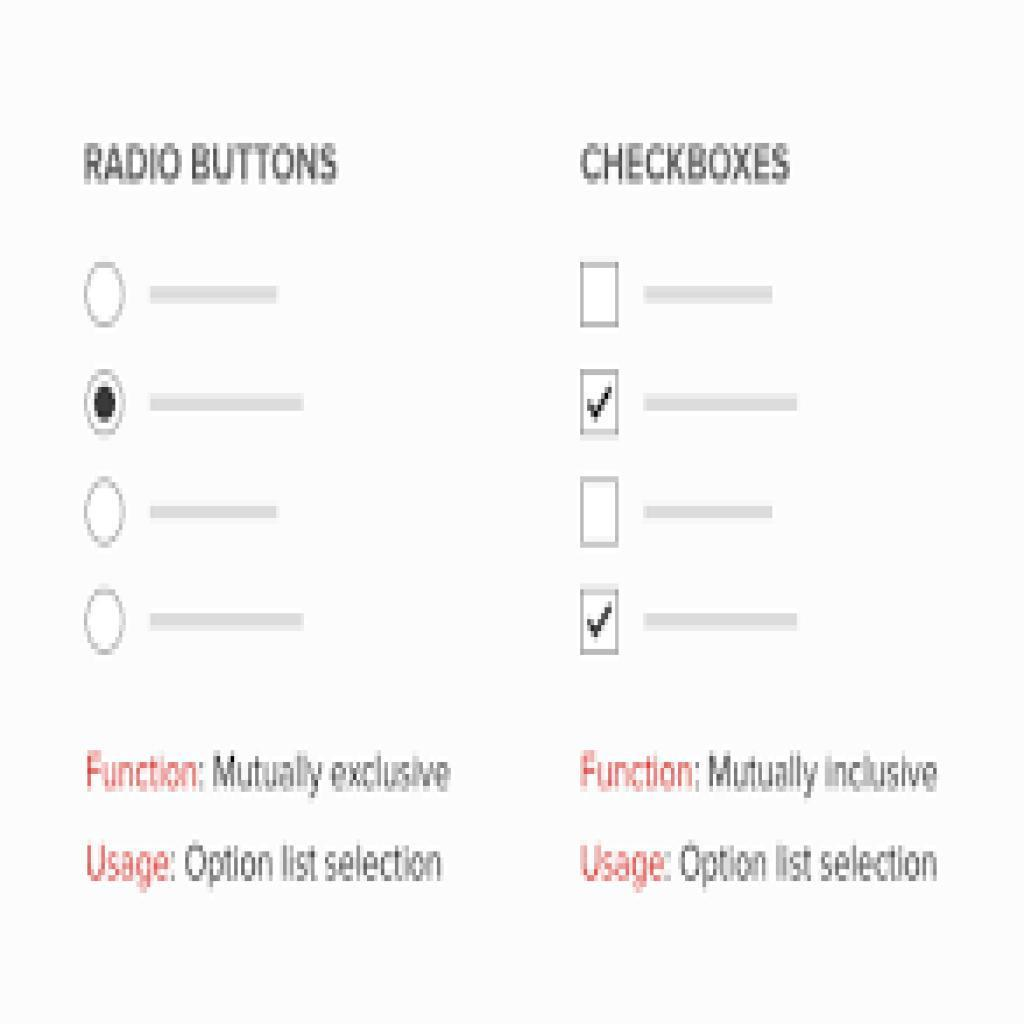checkbox: (579, 262, 622, 332), (581, 477, 622, 545), (580, 587, 619, 657), (581, 369, 620, 437)
radio: (83, 472, 130, 549), (82, 371, 132, 443), (83, 258, 131, 331), (82, 585, 128, 660)
